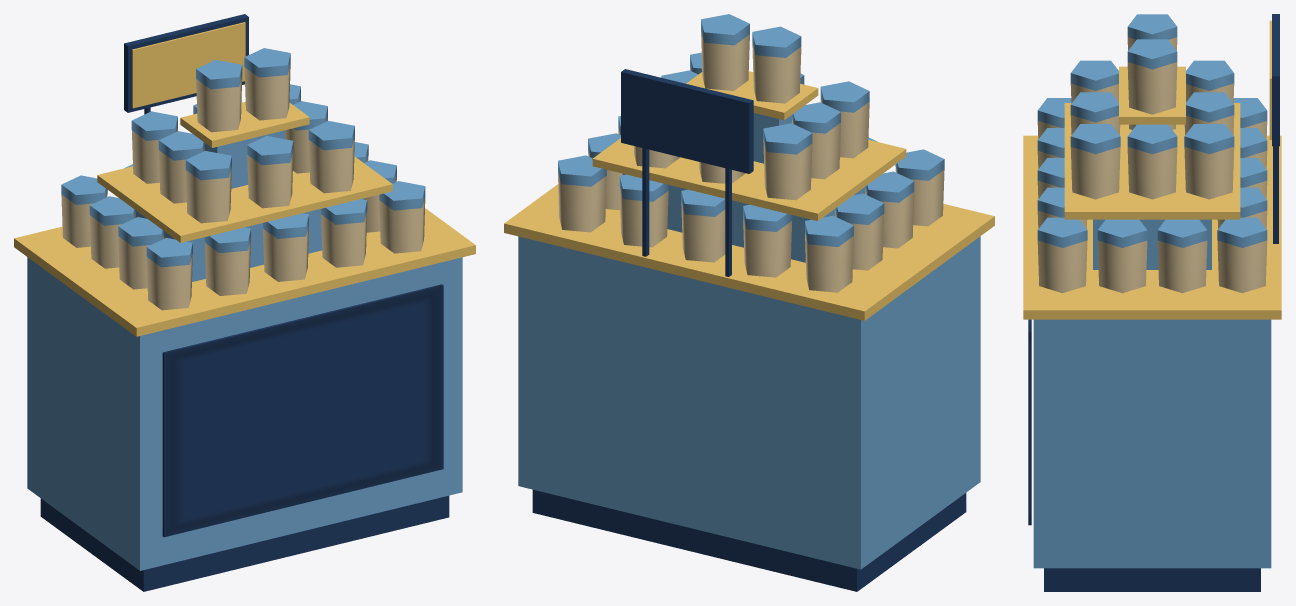
Rendered from s08-peanut-butter-jar-stand-low.glb.
3 renders of one model, left to right at view 1: azimuth 30°, elevation 25°; view 2: azimuth 150°, elevation 25°; view 3: azimuth 270°, elevation 25°, orthographic. The views are drawn at different scales.
Parts seen in each view (by area): view 1: Tiered breakfast stand, Three rows of capped jars, Blank header; view 2: Tiered breakfast stand, Three rows of capped jars, Blank header; view 3: Tiered breakfast stand, Three rows of capped jars, Blank header.
Part boxes in pixels (<box>): Tiered breakfast stand: <box>14,102,475,591</box>; Three rows of capped jars: <box>61,48,425,310</box>; Blank header: <box>124,14,248,114</box>; Tiered breakfast stand: <box>504,71,994,591</box>; Three rows of capped jars: <box>558,14,944,292</box>; Blank header: <box>621,69,753,276</box>; Tiered breakfast stand: <box>1023,66,1281,591</box>; Three rows of capped jars: <box>1037,14,1267,293</box>; Blank header: <box>1269,14,1279,243</box>.
Bounding box in the file's own units: 1.65 × 2.1 × 1.03.
1 material, 1 textured.
